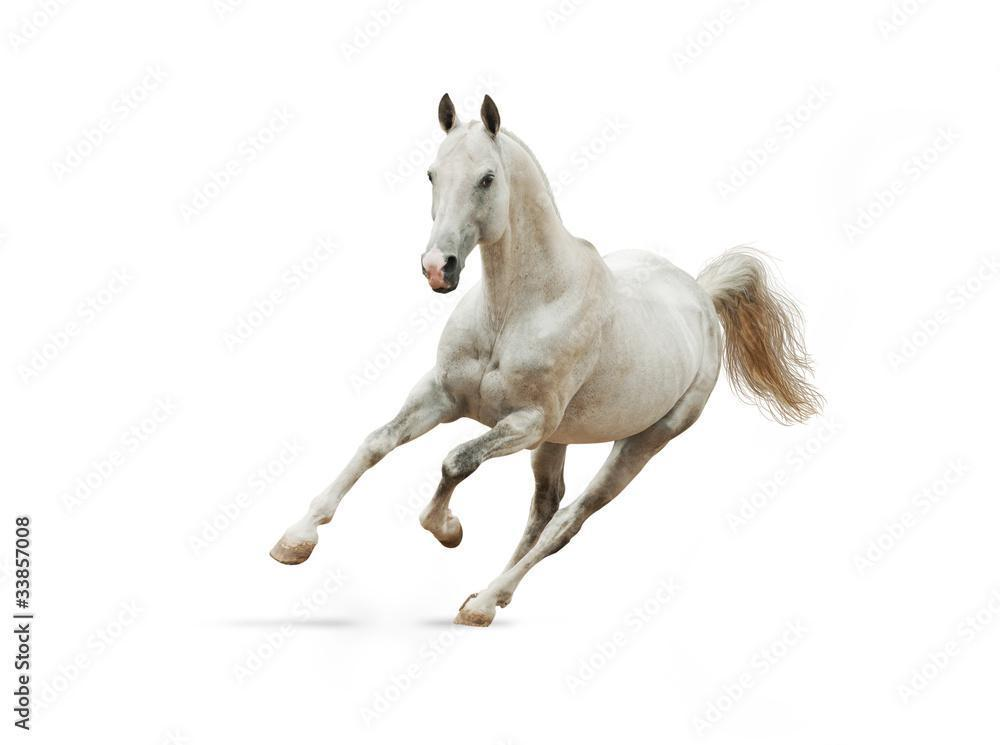horse: (258, 85, 834, 629)
